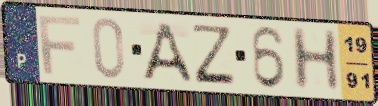0: (90, 16, 127, 81)
6: (249, 24, 288, 91)
A: (139, 20, 196, 85)
F: (36, 14, 83, 77)
H: (289, 26, 344, 93)
Z: (190, 22, 237, 87)
